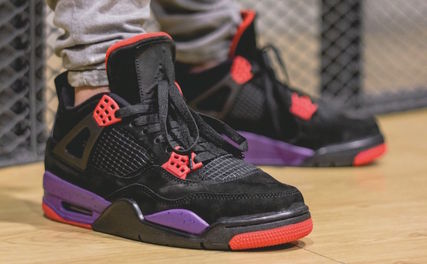Air Jordan 4 Raptors: (37, 21, 319, 252), (168, 1, 393, 171)
